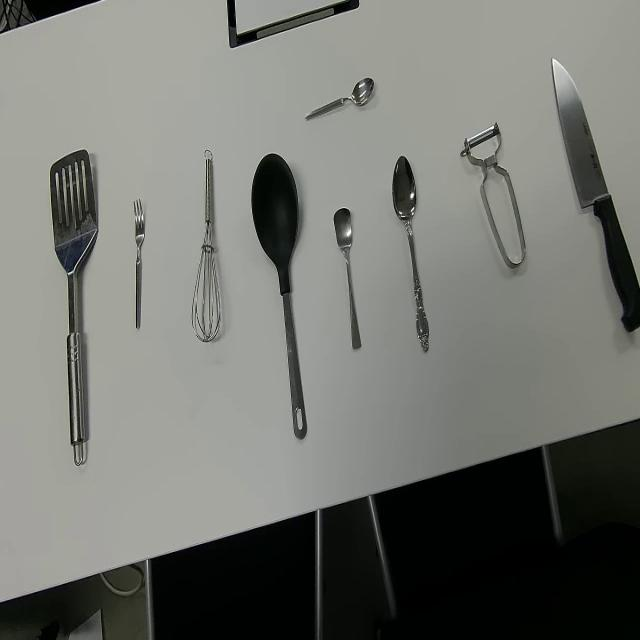Desert-Spoon: (392, 154, 431, 356)
Dinner-Fork: (133, 197, 146, 330)
Kitchen-Knife: (550, 56, 640, 333)
Peeler: (460, 120, 526, 270)
Serving-Spoon: (250, 150, 308, 443), (49, 147, 98, 468)
Tea-Spoon: (333, 206, 362, 352), (304, 74, 374, 123)
Whisk: (190, 148, 222, 345)
